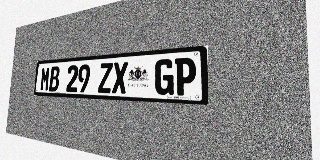2: (66, 65, 79, 92)
9: (77, 64, 91, 92)
B: (49, 66, 60, 91)
G: (154, 58, 174, 95)
M: (40, 67, 50, 91)
P: (174, 57, 196, 96)
X: (112, 61, 128, 94)
Z: (98, 62, 113, 93)
